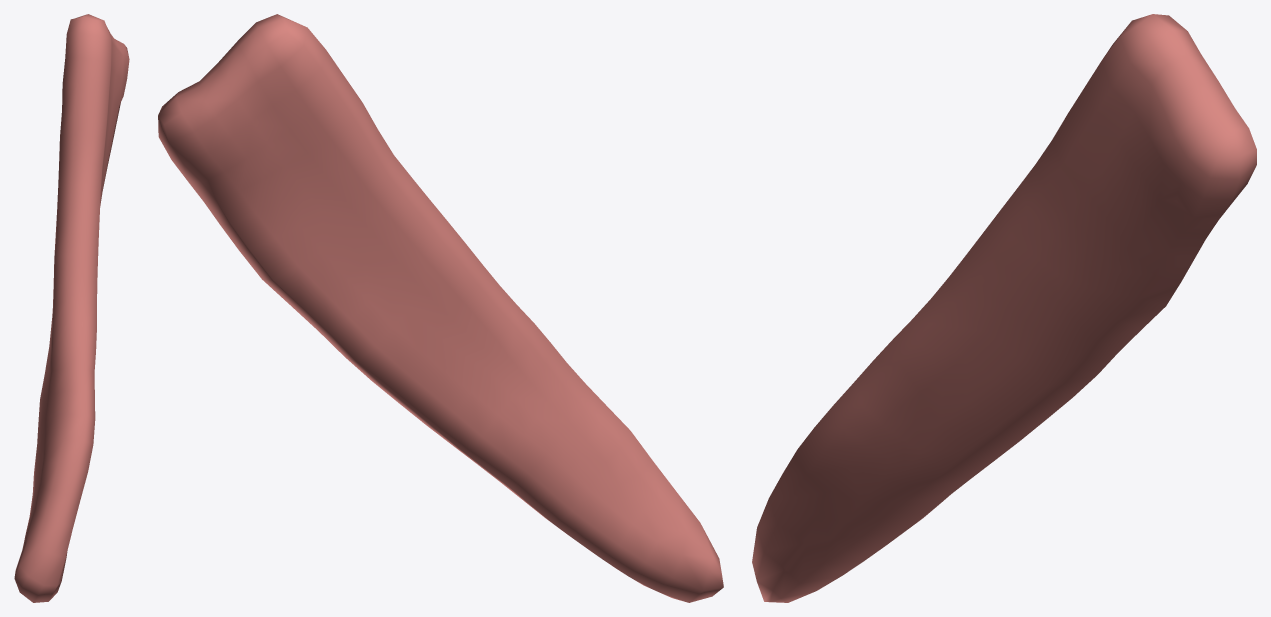
3 renders of one model, left to right at view 1: azimuth 30°, elevation 25°; view 2: azimuth 150°, elevation 25°; view 3: azimuth 270°, elevation 25°, orthographic. The views are drawn at different scales.
Visible parts, largest first — view 1: ZA_8d166b5ff5060829; view 2: ZA_8d166b5ff5060829; view 3: ZA_8d166b5ff5060829.
Boxes of the visible parts, x1,y1,x2,y2 form: ZA_8d166b5ff5060829: (14, 14, 129, 602); ZA_8d166b5ff5060829: (158, 14, 723, 602); ZA_8d166b5ff5060829: (752, 14, 1256, 602).
Size of the model in its own units: 0.0285 by 0.0492 by 0.0317.
